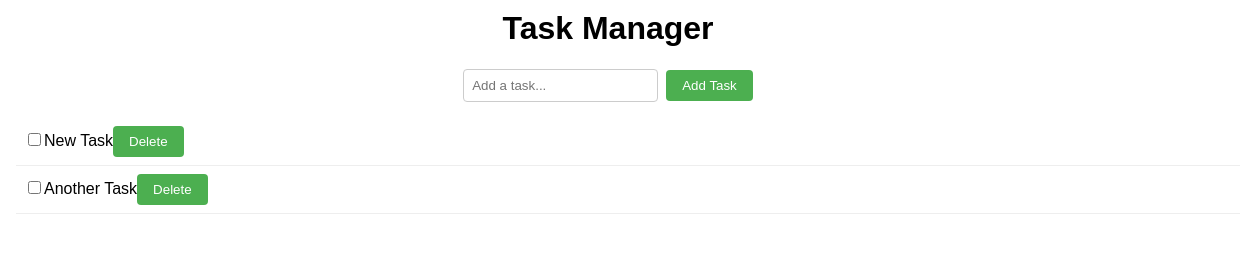
it: App Component › deletes a task
The image size is (1248, 279).
Type "Task to Delete" into the field with placeholder "Add a task..." at (561, 85), box [463,69,658,102]
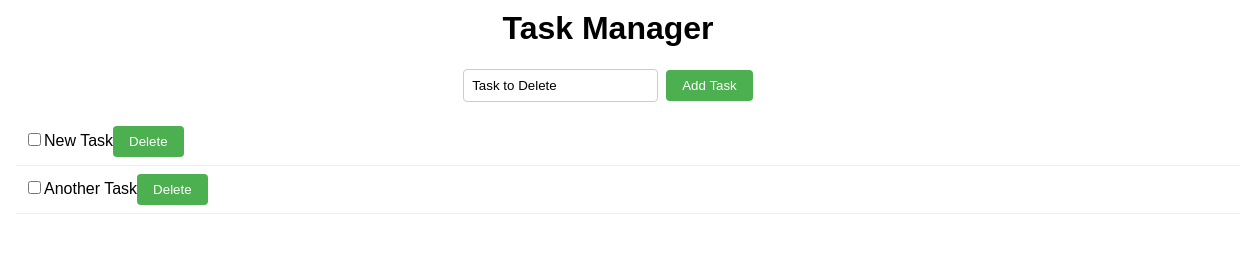
Click the button "Add Task" at (710, 85), box [666,70,753,101]
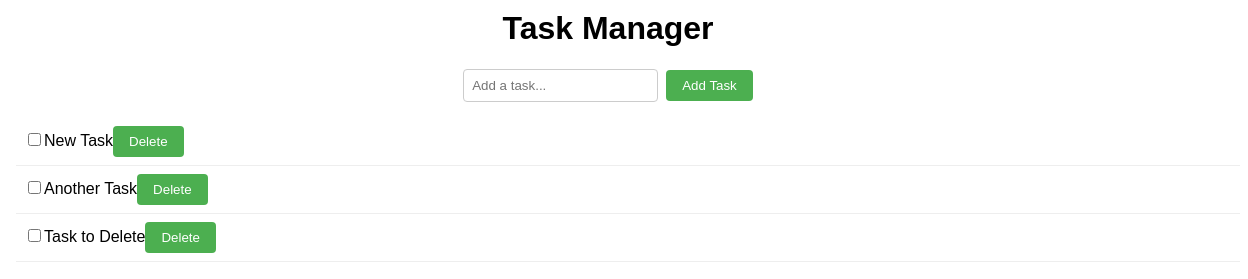
Click the button "Delete" next to "Task to Delete" at (181, 237), box [145,222,216,253]
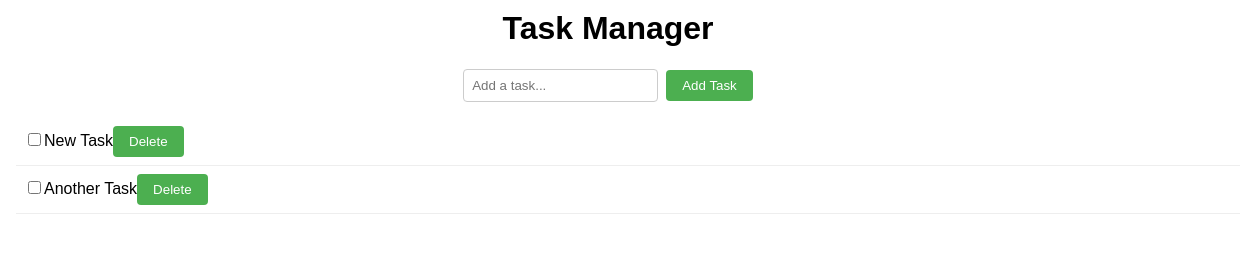
Check: the text "Task to Delete" is gone
